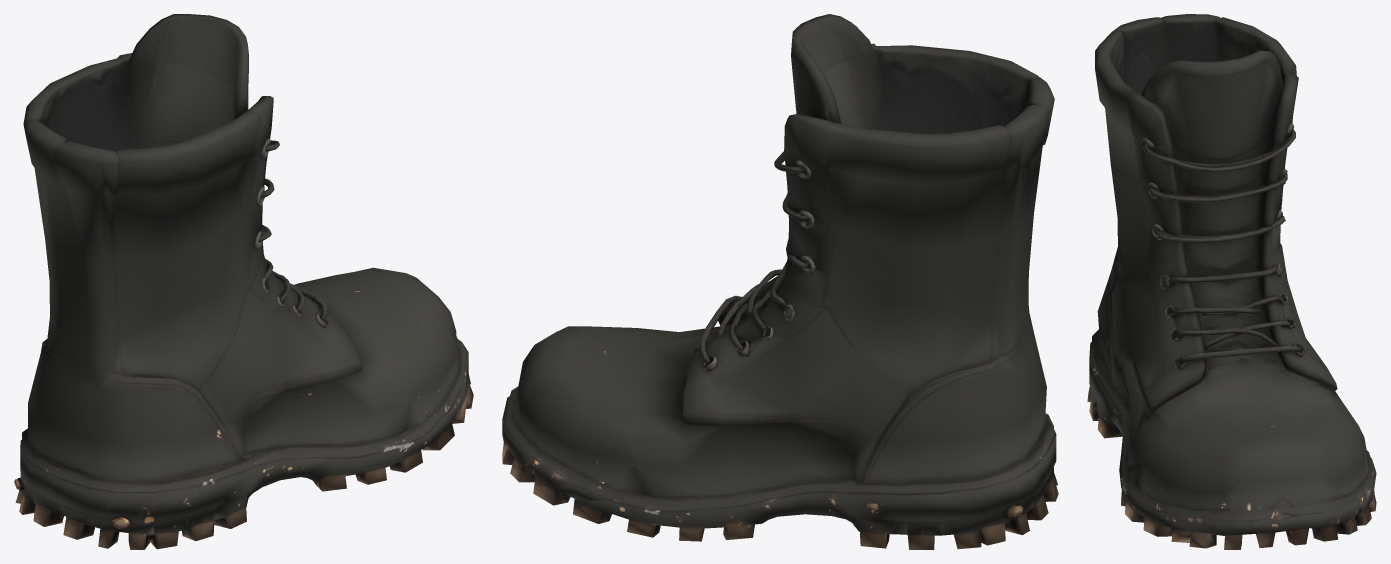
The model's file is safetyboot.glb.
3 views of the same model, side by side, from view 1: azimuth 30°, elevation 25°; view 2: azimuth 150°, elevation 25°; view 3: azimuth 270°, elevation 25° (orthographic). The views are drawn at different scales.
Parts seen in each view (by area): view 1: tripo_node_af292642-4a0f-4482-854e-64099ab85407; view 2: tripo_node_af292642-4a0f-4482-854e-64099ab85407; view 3: tripo_node_af292642-4a0f-4482-854e-64099ab85407.
Boxes of the visible parts, left/top/right/bottom form: tripo_node_af292642-4a0f-4482-854e-64099ab85407: left=14, top=14, right=473, bottom=549; tripo_node_af292642-4a0f-4482-854e-64099ab85407: left=502, top=14, right=1058, bottom=549; tripo_node_af292642-4a0f-4482-854e-64099ab85407: left=1087, top=14, right=1376, bottom=549.
Bounding box in the file's own units: 0.998 × 0.9238 × 0.6035.
Materials: 1 (1 with a texture image).
